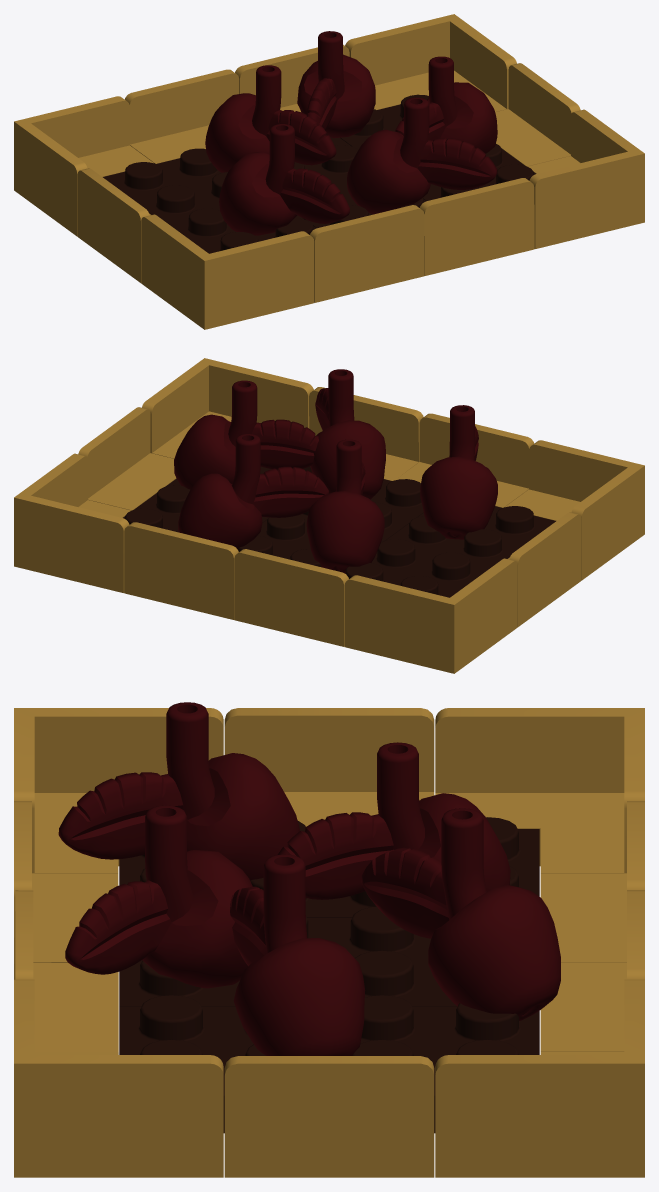
Rendered from fruit.dae.
3 views of the same model, one above another, from view 1: azimuth 30°, elevation 25°; view 2: azimuth 150°, elevation 25°; view 3: azimuth 270°, elevation 25° (orthographic). The views are drawn at different scales.
Visible parts, largest first — view 1: Part.3, Part.1, Part.2, Part.13, Part.4, Part.14, Part.5, Part.0, Part.10, Part.16, Part.9, Part.6 (+6 smaller); view 2: Part.2, Part.4, Part.3, Part.10, Part.17, Part.8, Part.9, Part.1, Part.15, Part.14, Part.16, Part.6 (+6 smaller); view 3: Part.1, Part.4, Part.2, Part.6, Part.17, Part.14, Part.13, Part.15, Part.3, Part.7, Part.12, Part.16 (+6 smaller).
Boxes of the visible parts, x1,y1,x2,y2 form: Part.3: (141,214,314,329); Part.1: (528,109,644,248); Part.2: (14,96,153,236); Part.13: (347,97,497,214); Part.4: (345,14,516,112); Part.14: (219,124,349,235); Part.5: (420,178,534,275); Part.0: (310,205,424,302); Part.10: (103,148,316,253); Part.16: (205,65,336,172); Part.9: (125,69,239,163); Part.6: (495,63,580,166); Part.2: (344,558,517,673); Part.4: (14,453,130,592); Part.3: (505,440,644,580); Part.10: (345,506,555,597); Part.17: (178,434,328,549); Part.8: (124,522,238,619); Part.9: (234,549,348,646); Part.1: (142,358,313,458); Part.15: (174,380,318,489); Part.14: (420,405,497,539); Part.16: (306,439,384,573); Part.6: (78,407,176,510); Part.1: (14,979,223,1177); Part.4: (435,979,644,1177); Part.2: (435,708,644,873); Part.6: (224,1056,434,1177); Part.17: (361,808,560,1020); Part.14: (58,702,299,880); Part.13: (65,805,252,988); Part.15: (230,854,365,1055); Part.3: (14,708,223,873); Part.7: (224,708,434,826); Part.12: (119,995,539,1133); Part.16: (277,742,510,899).
Bounding box in the file's own units: 63.92 × 18.37 × 47.92.
